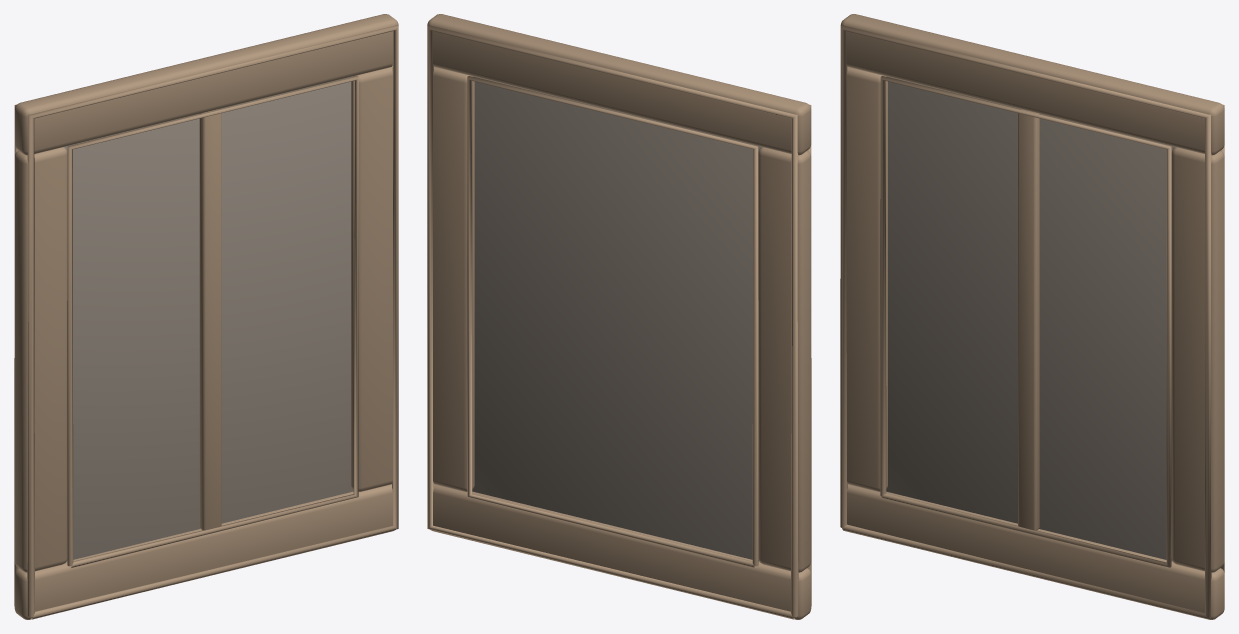
Rendered from cl_frame.glb.
3 views of the same model, side by side, from view 1: azimuth 30°, elevation 25°; view 2: azimuth 150°, elevation 25°; view 3: azimuth 330°, elevation 25° (orthographic).
Parts seen in each view (by area): view 1: cl_frame; view 2: cl_frame; view 3: cl_frame.
Part boxes in pixels (bbox=[...]): cl_frame: bbox=[14, 14, 398, 619]; cl_frame: bbox=[427, 14, 811, 619]; cl_frame: bbox=[840, 14, 1224, 619].
Bounding box in the file's own units: 0.5 × 0.65 × 0.039.
